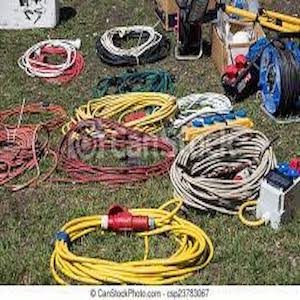combustible: (53, 221, 214, 281), (172, 132, 276, 202), (77, 94, 177, 129), (97, 25, 167, 64), (20, 43, 81, 79)
